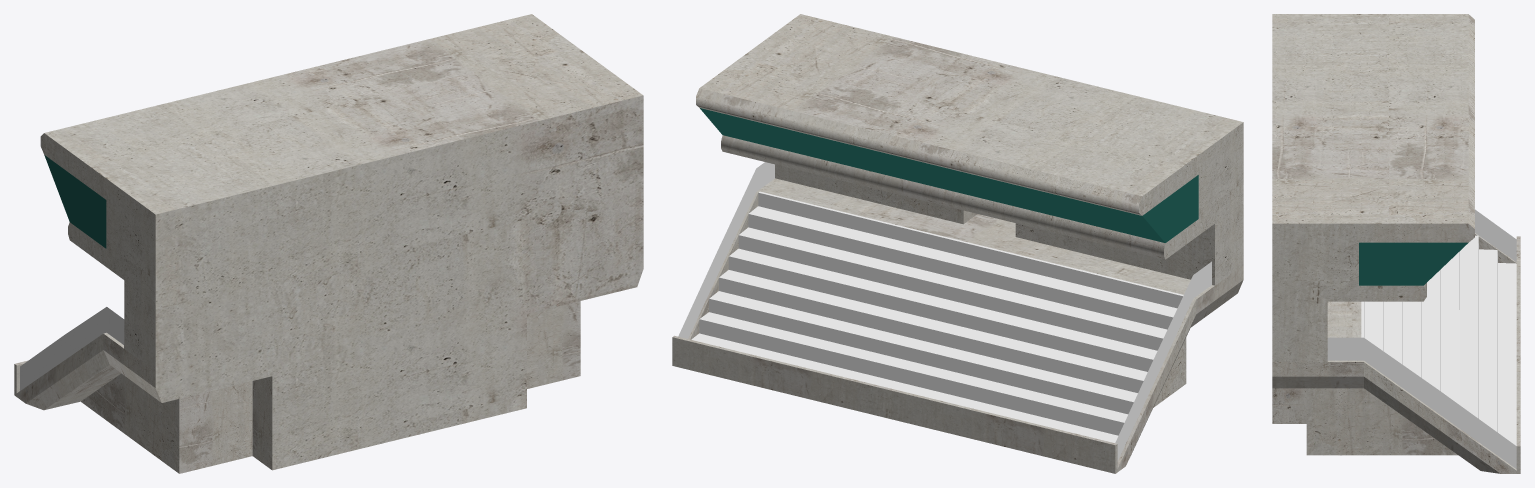
File: newgrandstand.obj
The picture shows the model from 3 angles, left to right: view 1: azimuth 30°, elevation 25°; view 2: azimuth 150°, elevation 25°; view 3: azimuth 270°, elevation 25°; orthographic projection. The views are drawn at different scales.
Visible parts, largest first — view 1: Grandstands_Concrete, Grandstands_Side_Fence, Grandstands_Glass; view 2: Grandstands_Concrete, Grandstands_Seats, Grandstands_Glass, Grandstands_Side_Fence; view 3: Grandstands_Concrete, Grandstands_Seats, Grandstands_Side_Fence, Grandstands_Glass.
Part boxes in pixels (x1,y1,x2,y2): Grandstands_Concrete: (14, 14, 643, 473); Grandstands_Side_Fence: (20, 307, 124, 390); Grandstands_Glass: (44, 155, 106, 248); Grandstands_Concrete: (672, 14, 1243, 473); Grandstands_Seats: (691, 191, 1183, 442); Grandstands_Glass: (700, 108, 1198, 242); Grandstands_Side_Fence: (678, 162, 1211, 460); Grandstands_Concrete: (1272, 14, 1520, 473); Grandstands_Seats: (1361, 235, 1516, 445); Grandstands_Side_Fence: (1327, 209, 1516, 468); Grandstands_Glass: (1359, 242, 1468, 285).
Bounding box in the file's own units: 0.1968 × 0.1096 × 0.0986.
